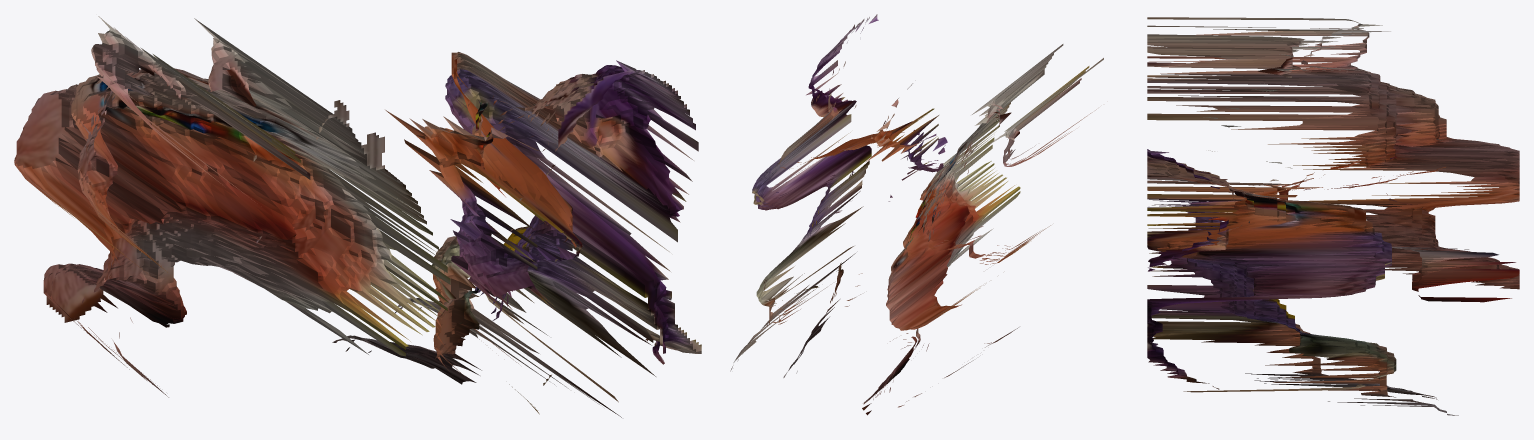
File: frame_00390.glb
The picture shows the model from 3 angles, left to right: view 1: azimuth 30°, elevation 25°; view 2: azimuth 150°, elevation 25°; view 3: azimuth 270°, elevation 25°; orthographic projection. The views are drawn at different scales.
Visible parts, largest first — view 1: geometry_0; view 2: geometry_0; view 3: geometry_0.
Part boxes in pixels (x1=…): geometry_0: x1=14, y1=16, x2=701, y2=417; geometry_0: x1=730, y1=14, x2=1103, y2=415; geometry_0: x1=1147, y1=17, x2=1519, y2=415.
Size of the model in its own units: 0.1506 by 0.1445 by 0.16.
1 material, 1 textured.
